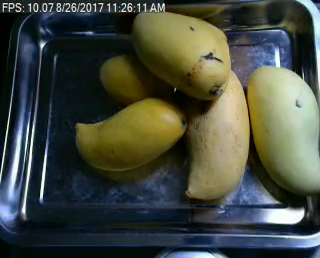Mango: (248, 65, 320, 191), (132, 9, 229, 100), (185, 67, 251, 196), (74, 98, 184, 173), (98, 54, 176, 107)
